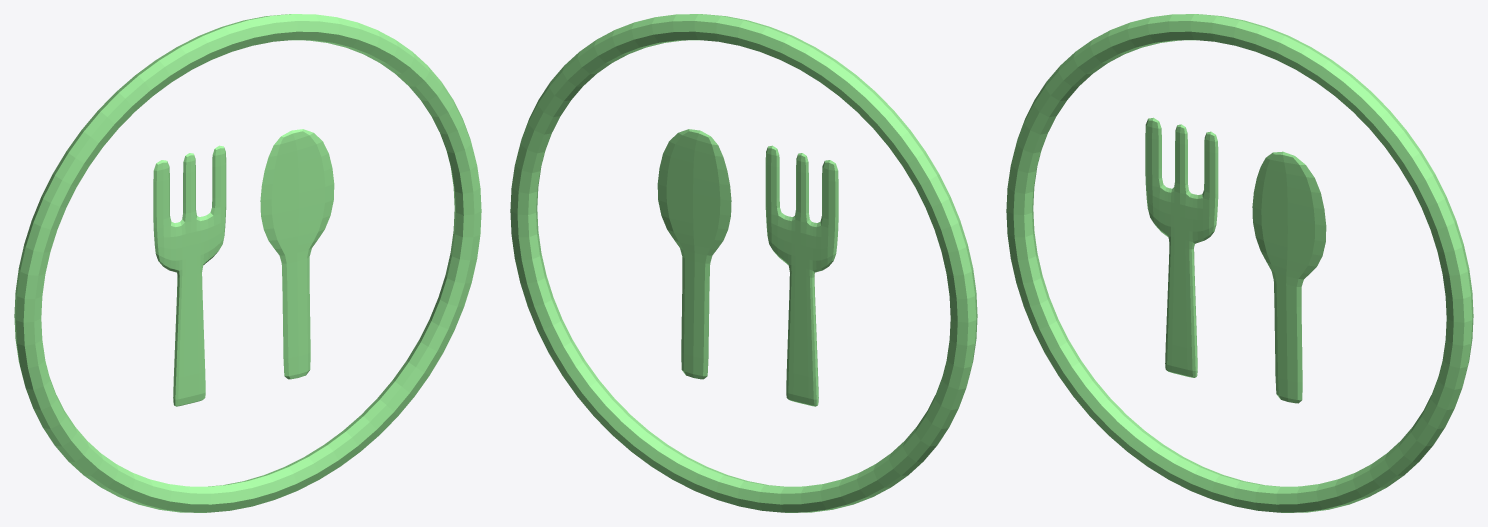
The model's file is Food.fbx.
The picture shows the model from 3 angles, left to right: view 1: azimuth 30°, elevation 25°; view 2: azimuth 150°, elevation 25°; view 3: azimuth 330°, elevation 25°; orthographic projection.
Parts seen in each view (by area): view 1: Plane.001; view 2: Plane.001; view 3: Plane.001.
Boxes of the visible parts, <box> form: Plane.001: <box>14,14,481,512</box>; Plane.001: <box>510,14,977,512</box>; Plane.001: <box>1006,14,1473,512</box>.
Size of the model in its own units: 431 by 431 by 20.38.
